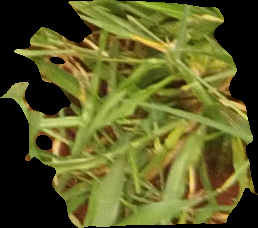grass: (1, 1, 257, 226)
